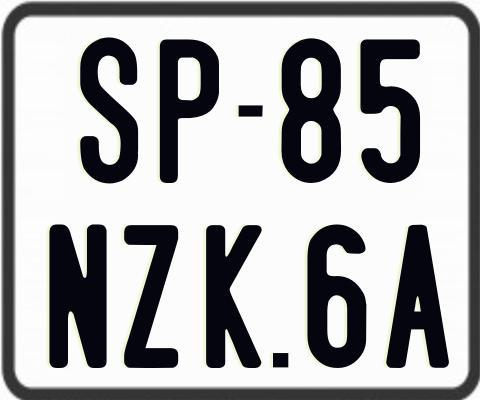5: (360, 37, 422, 181)
6: (307, 225, 366, 373)
8: (279, 36, 343, 183)
A: (385, 225, 449, 374)
K: (203, 223, 261, 366)
N: (48, 223, 110, 368)
P: (159, 37, 222, 185)
S: (78, 37, 139, 187)
Z: (121, 223, 178, 371)
